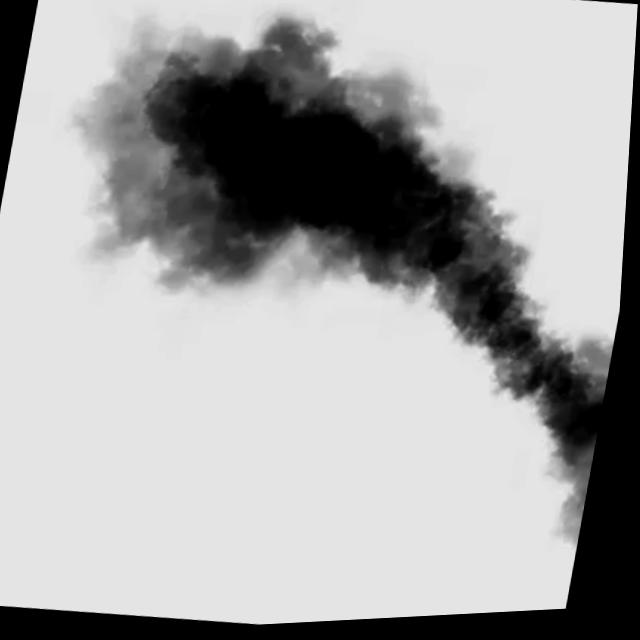no_helmet: (1, 0, 640, 570)
